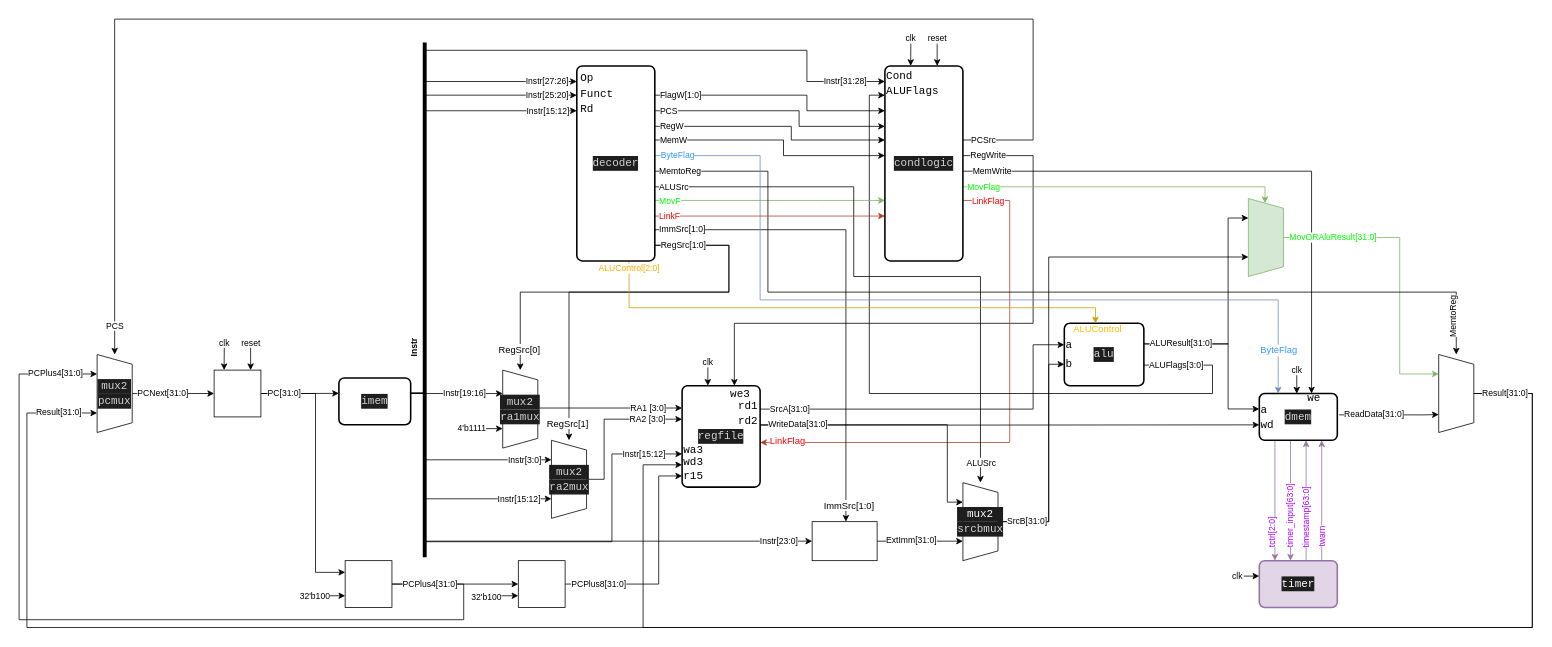
Image size: 1552x647. Some labels were removed from this diagram. Each missing label, with the centre of its shape:
adder pcadd1: point (368, 583)
adder pcadd2: point (541, 583)
extend ext: point (844, 541)
flopr pcreg: point (237, 393)
mux2 movmux: point (1265, 237)
mux2 resmux: point (1456, 393)
